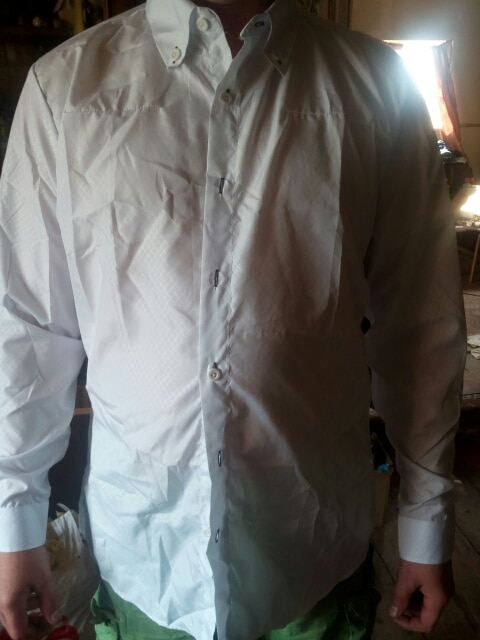shirts: (5, 7, 465, 637)
